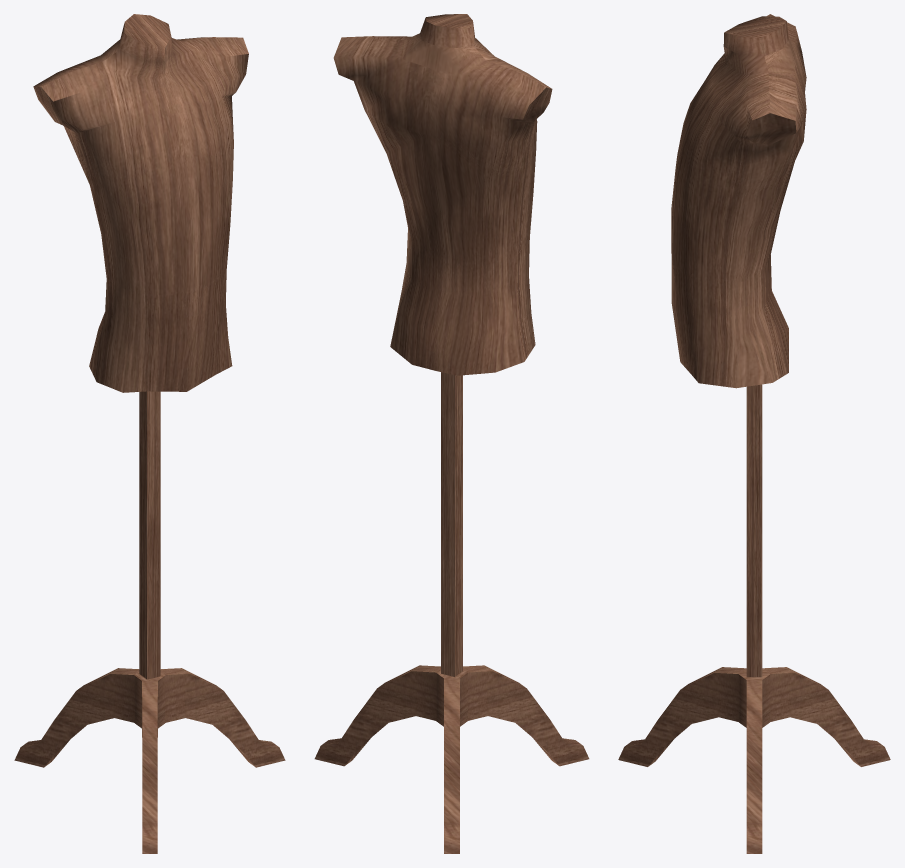
Rendered from shop_tailor_mannequinMaleNaked.fbx.
3 renders of one model, left to right at view 1: azimuth 30°, elevation 25°; view 2: azimuth 150°, elevation 25°; view 3: azimuth 270°, elevation 25°, orthographic.
Parts seen in each view (by area): view 1: dummy_torso, coatRack_feet, coatRack_pole; view 2: dummy_torso, coatRack_feet, coatRack_pole; view 3: dummy_torso, coatRack_feet, coatRack_pole.
Boxes of the visible parts, bbox=[...] form: dummy_torso: bbox=[33, 14, 248, 392]; coatRack_feet: bbox=[14, 668, 285, 853]; coatRack_pole: bbox=[139, 391, 160, 679]; dummy_torso: bbox=[333, 14, 552, 375]; coatRack_feet: bbox=[314, 665, 589, 853]; coatRack_pole: bbox=[441, 372, 462, 676]; dummy_torso: bbox=[671, 14, 806, 388]; coatRack_feet: bbox=[618, 667, 890, 853]; coatRack_pole: bbox=[746, 384, 762, 677].
Bounding box in the file's own units: 158 × 495 × 159.
Materials: 1 (1 with a texture image).
